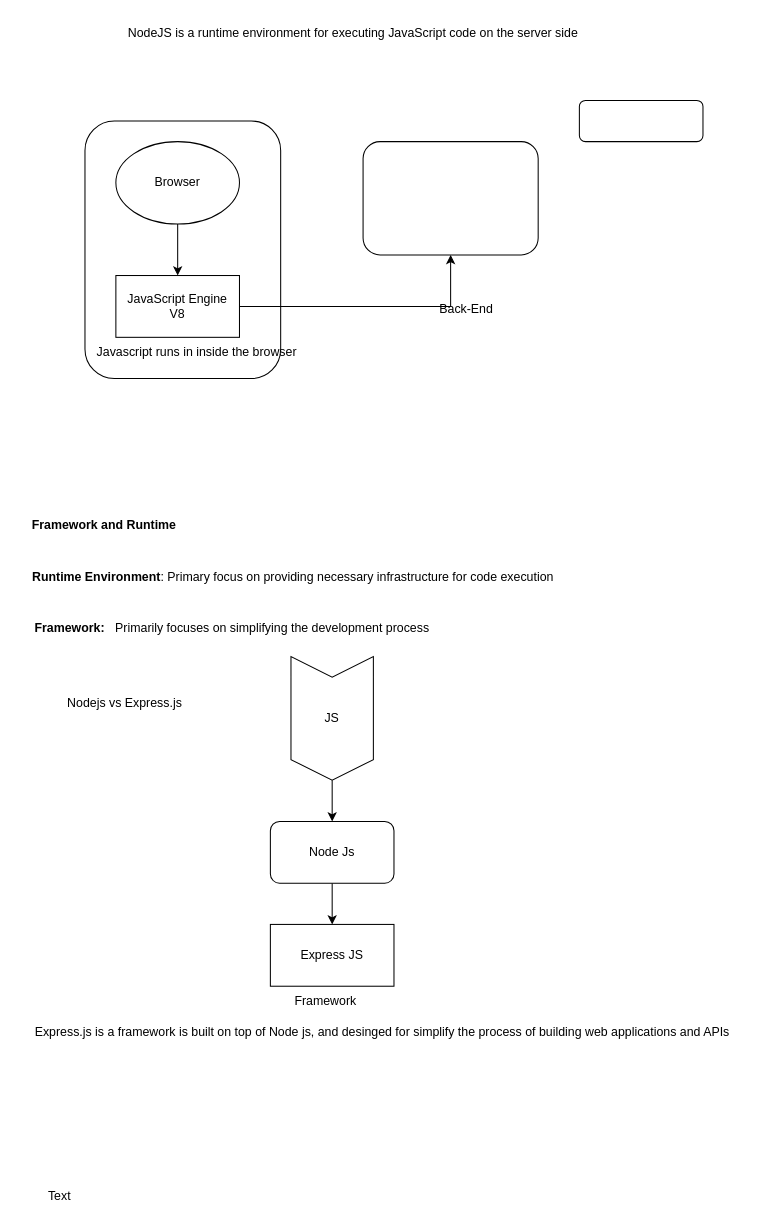
Image size: 761x1229. Some labels were removed from this diagram. The shapes that lost their labels are listed below. From the top down, each one's centre as x and y in pixels, then its label:
[640,120]: Lamp doesn't work
[450,198]: NodeJS V8 engine can run outside the browser
